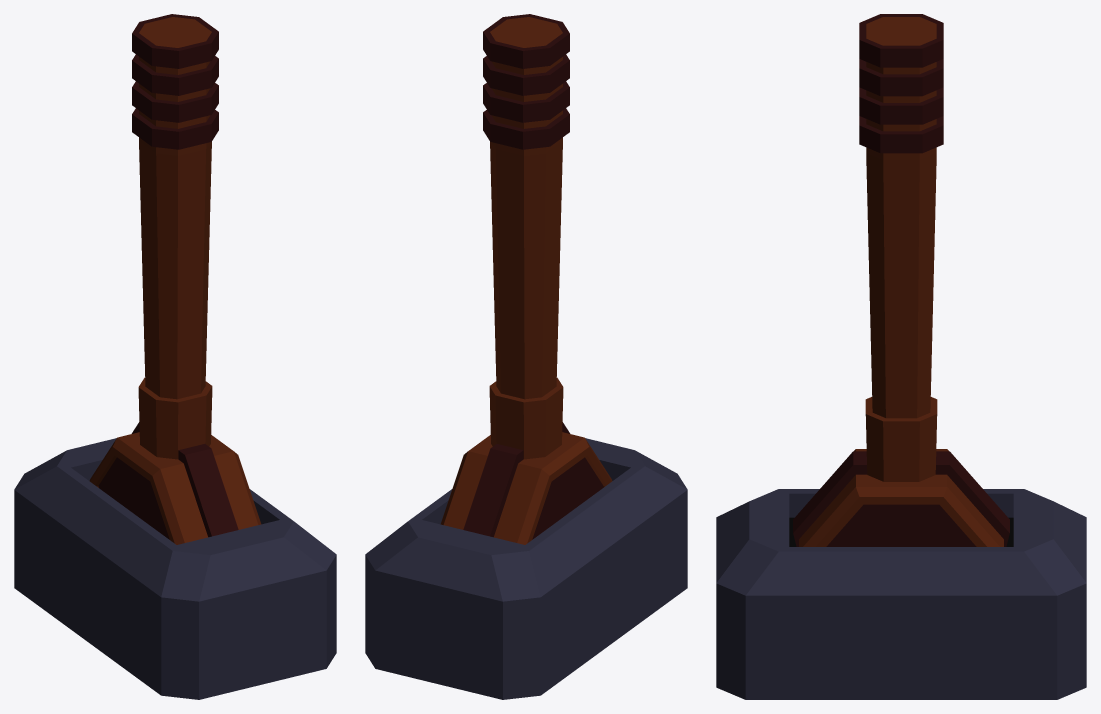
Rendered from spak.fbx.
3 views of the same model, side by side, from view 1: azimuth 30°, elevation 25°; view 2: azimuth 150°, elevation 25°; view 3: azimuth 270°, elevation 25° (orthographic). The views are drawn at different scales.
Visible parts, largest first — view 1: Spak_Bas, Spak_Pinne; view 2: Spak_Bas, Spak_Pinne; view 3: Spak_Bas, Spak_Pinne.
Part boxes in pixels (left/top/right/bottom): Spak_Bas: left=14, top=438, right=336, bottom=699; Spak_Pinne: left=89, top=14, right=261, bottom=544; Spak_Bas: left=365, top=438, right=687, bottom=699; Spak_Pinne: left=440, top=14, right=612, bottom=544; Spak_Bas: left=716, top=489, right=1086, bottom=699; Spak_Pinne: left=793, top=14, right=1009, bottom=546.
Size of what is drawn, in the model's own units: 290 by 928 by 500.
